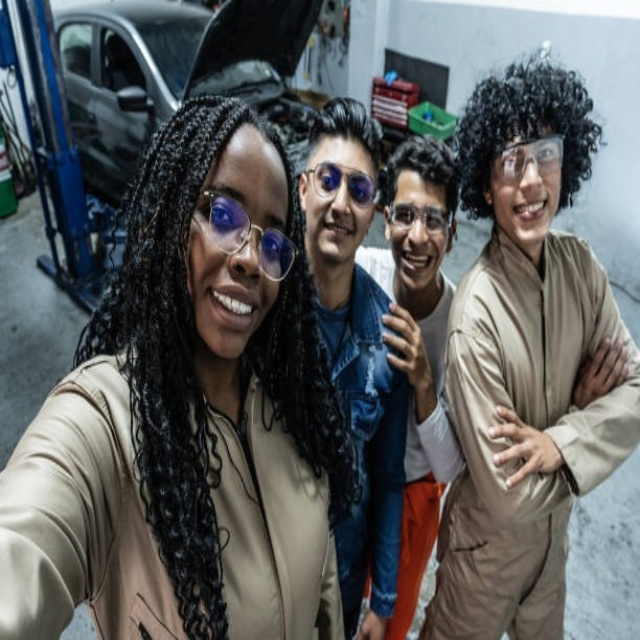Gafas: (194, 189, 299, 283), (306, 162, 379, 208), (494, 137, 563, 183), (388, 201, 452, 235)
Sin_guantes: (490, 397, 561, 499), (379, 290, 431, 387), (573, 334, 631, 408)
Sin_mascara: (206, 286, 259, 323), (513, 199, 548, 222), (400, 251, 432, 272), (322, 220, 355, 239)
